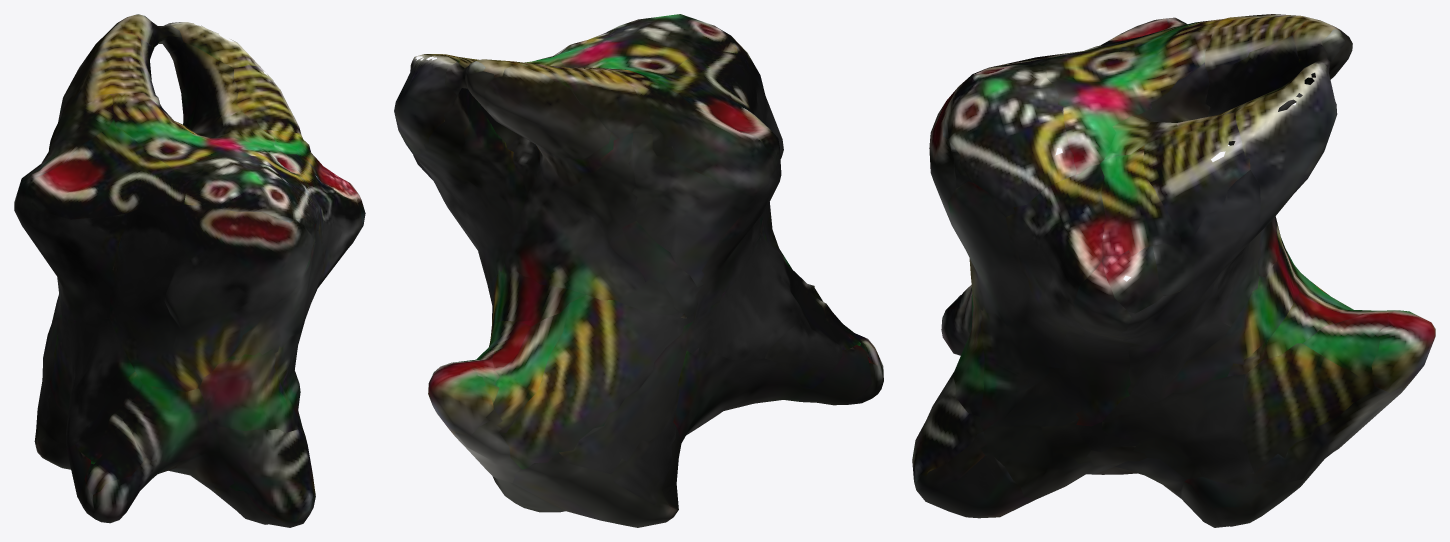
Rendered from hall.glb.
3 renders of one model, left to right at view 1: azimuth 30°, elevation 25°; view 2: azimuth 150°, elevation 25°; view 3: azimuth 270°, elevation 25°, orthographic. The views are drawn at different scales.
Bounding box in the file's own units: 0.4359 × 0.5173 × 0.4859.
1 material, 1 textured.
